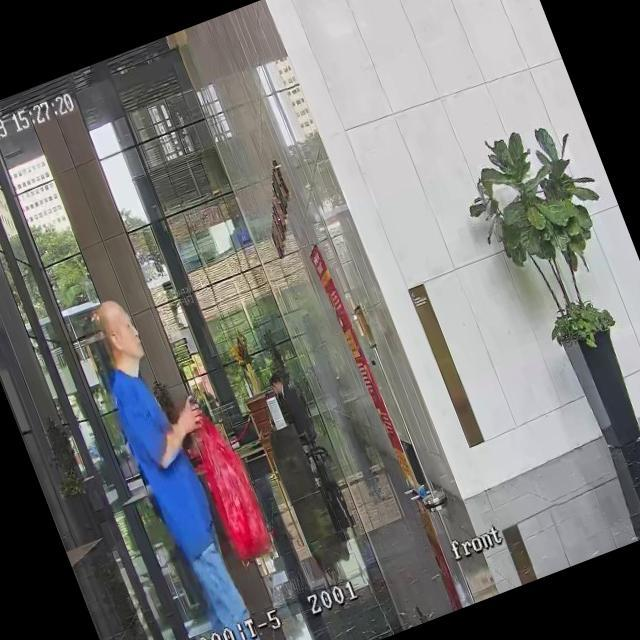person: (77, 282, 300, 640), (270, 369, 312, 438)
